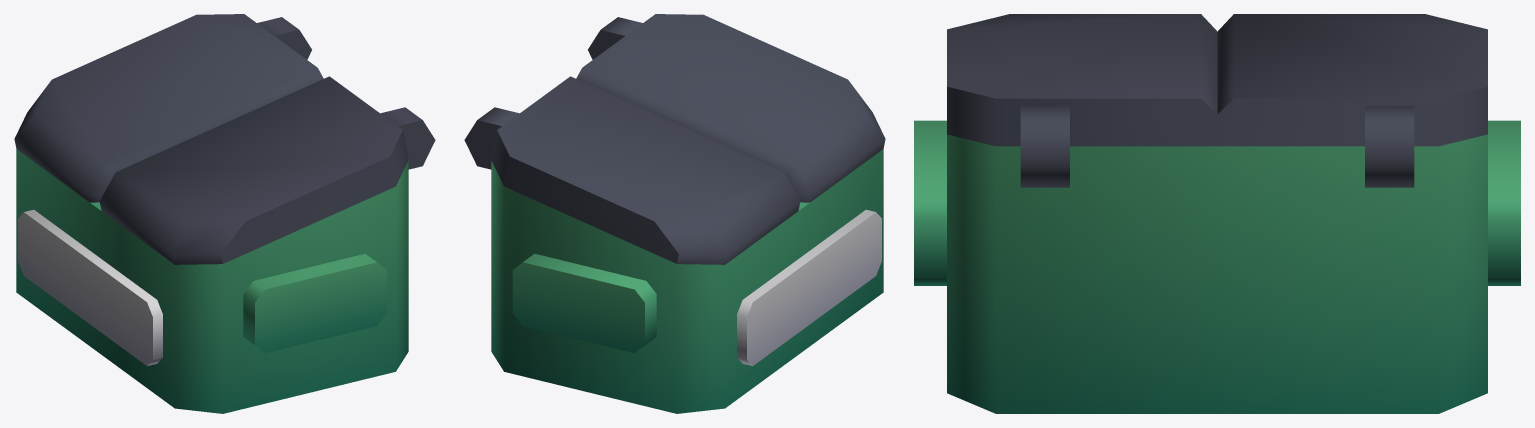
Rendered from dumpster.glb.
3 views of the same model, side by side, from view 1: azimuth 30°, elevation 25°; view 2: azimuth 150°, elevation 25°; view 3: azimuth 270°, elevation 25° (orthographic). The views are drawn at different scales.
Visible parts, largest first — view 1: mesh; view 2: mesh; view 3: mesh.
Boxes of the visible parts, x1=… form: mesh: x1=14, y1=14, x2=435, y2=413; mesh: x1=464, y1=14, x2=885, y2=413; mesh: x1=914, y1=14, x2=1520, y2=413.
Bounding box in the file's own units: 2.2 × 1.68 × 2.96.
